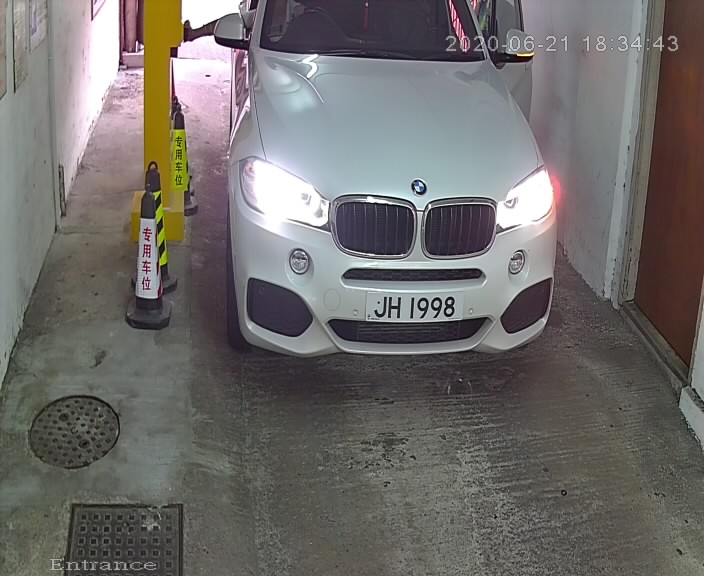privatecar: (198, 1, 577, 395)
